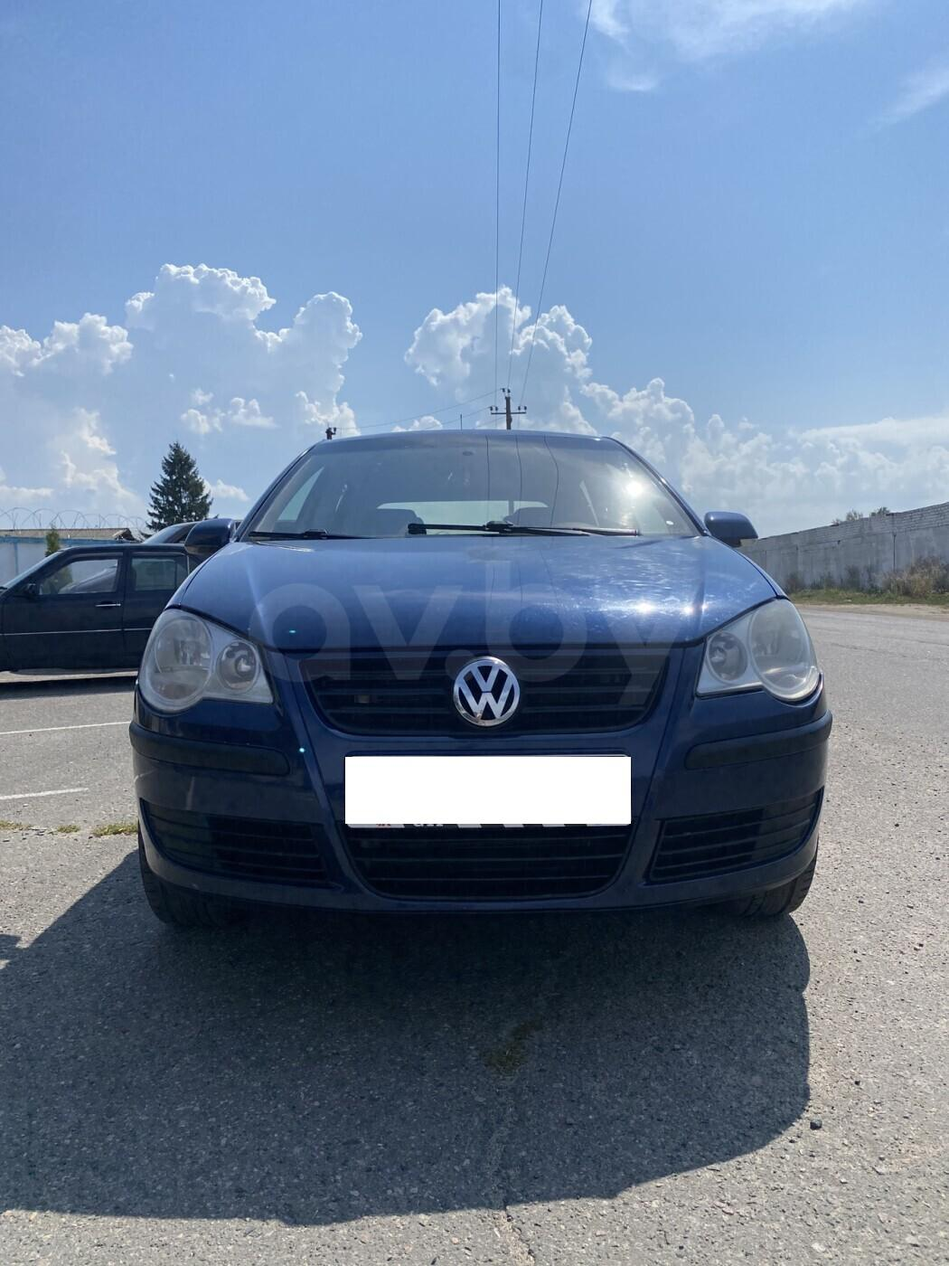Polo_2005-2009: (127, 401, 865, 980)
